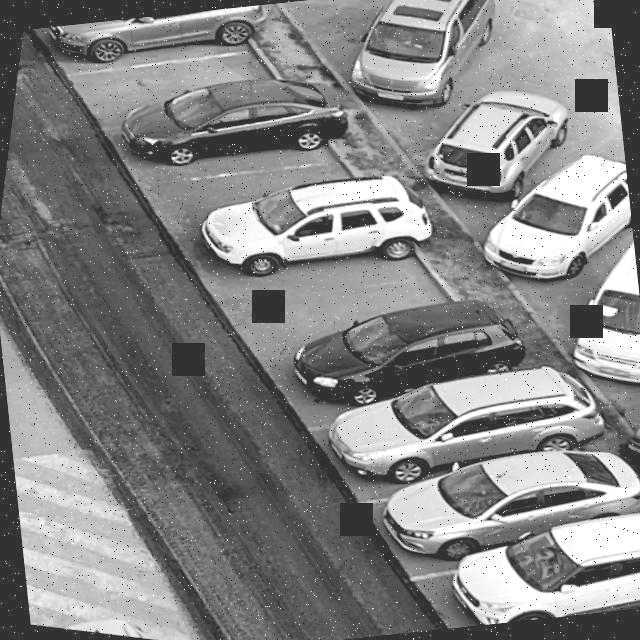car: (280, 306, 621, 553), (85, 38, 398, 246), (156, 128, 460, 341), (352, 401, 640, 620), (264, 267, 542, 462), (411, 488, 640, 630), (27, 4, 278, 120)
free: (197, 214, 501, 416), (131, 113, 398, 290), (51, 3, 292, 170)
